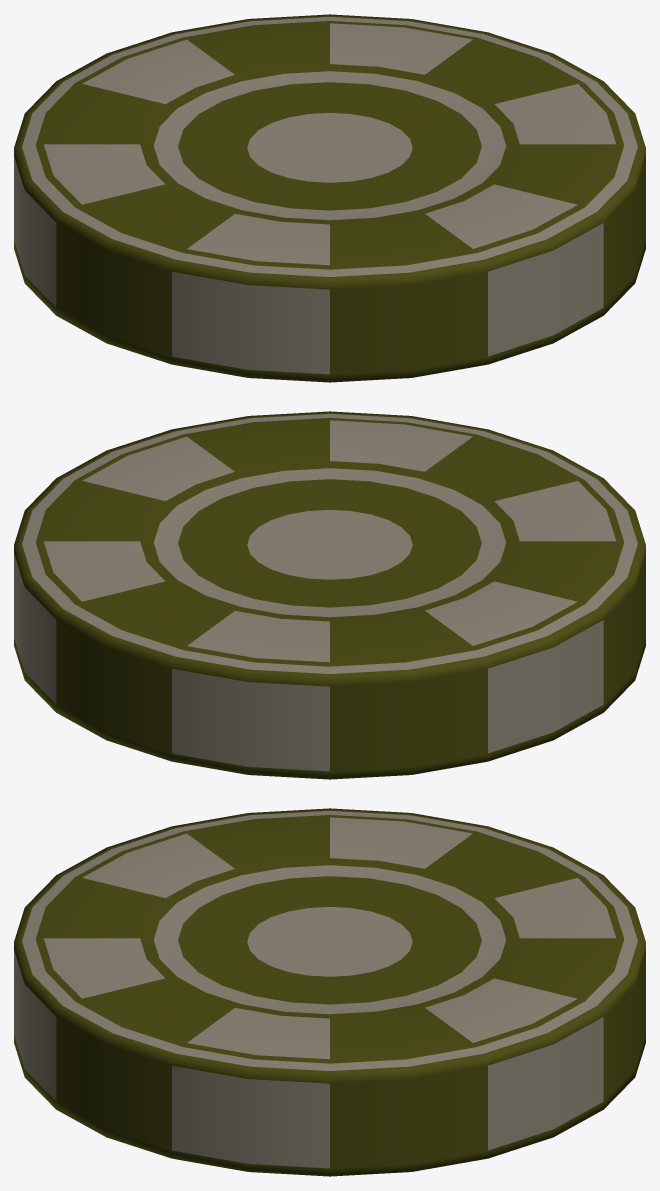
The model's file is chip_green.fbx.
3 views of the same model, one above another, from view 1: azimuth 30°, elevation 25°; view 2: azimuth 150°, elevation 25°; view 3: azimuth 270°, elevation 25° (orthographic).
Parts seen in each view (by area): view 1: Chip.002; view 2: Chip.002; view 3: Chip.002.
Part boxes in pixels (left/top/right/bottom): Chip.002: left=14, top=14, right=645, bottom=382; Chip.002: left=14, top=411, right=645, bottom=779; Chip.002: left=14, top=808, right=645, bottom=1176.
Size of the model in its own units: 3.68 by 0.6969 by 3.68.
